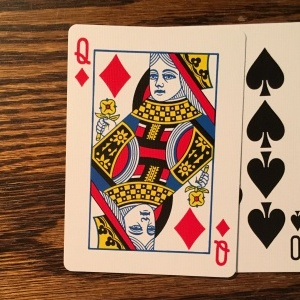card: (63, 23, 237, 277)
